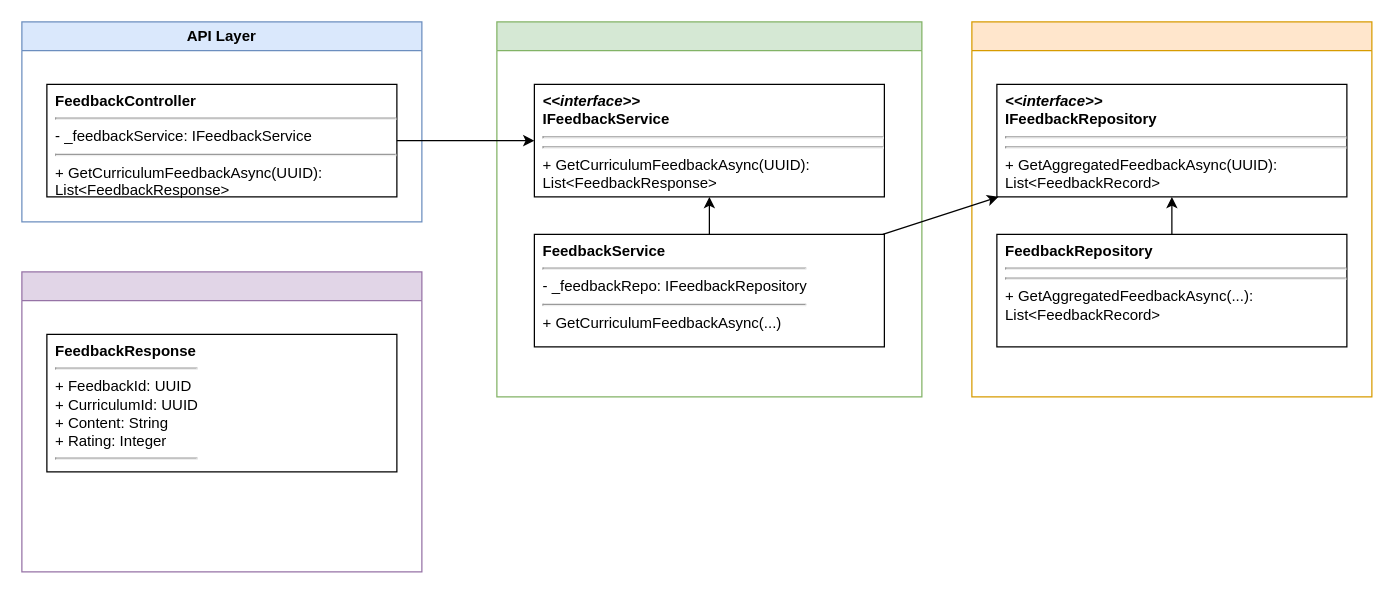
This 1394x594 diagram has some shape labels left out. The shapes that lost their labels are listed below. From the top down, each one's box as (x1, y1, x2, y2) in pixels, then its label:
(496, 21, 922, 397): Business Logic Layer (BLL)
(971, 21, 1372, 397): Data Access Layer (DAL)
(21, 271, 422, 572): DTOs & Entities
